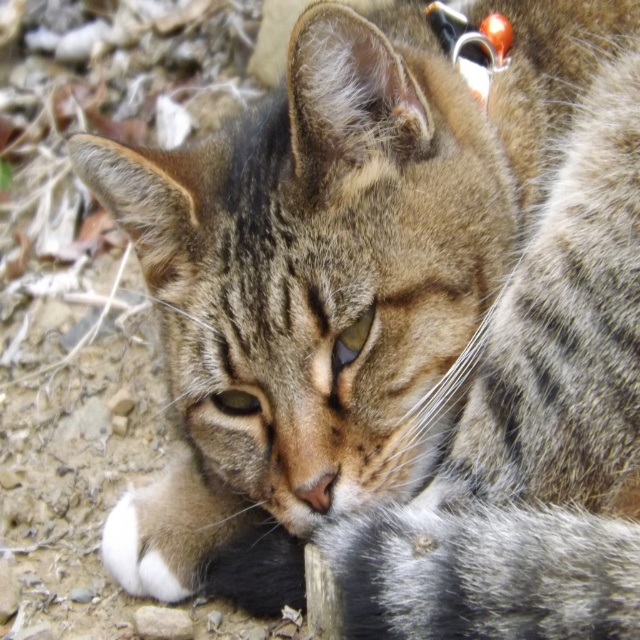Lynx: (52, 1, 640, 640)
